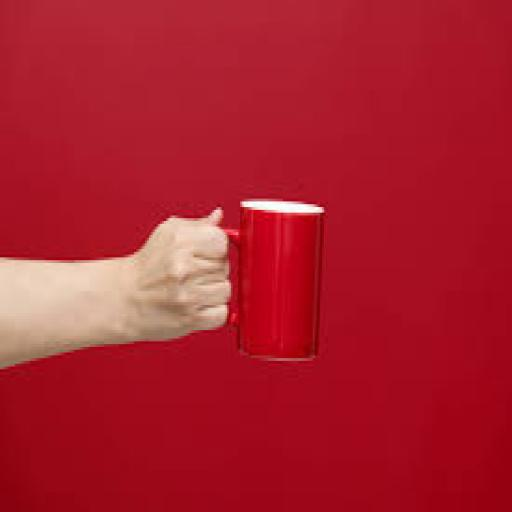red mug: (223, 201, 322, 358)
